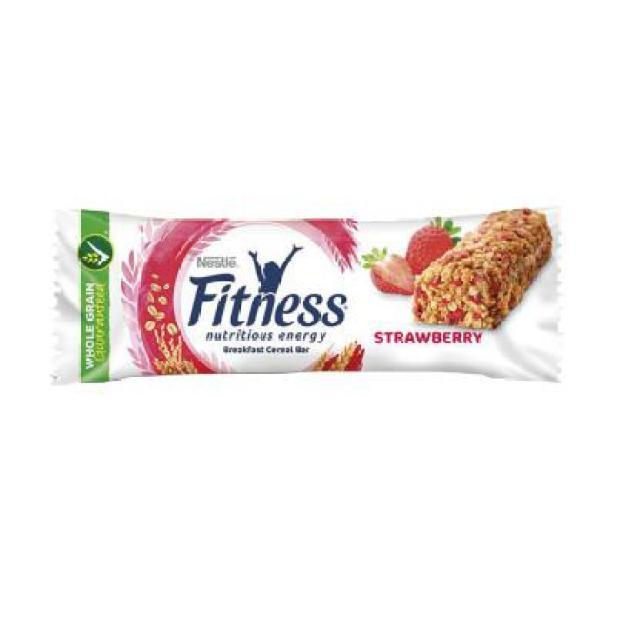Cereal bar: (32, 196, 577, 397)
